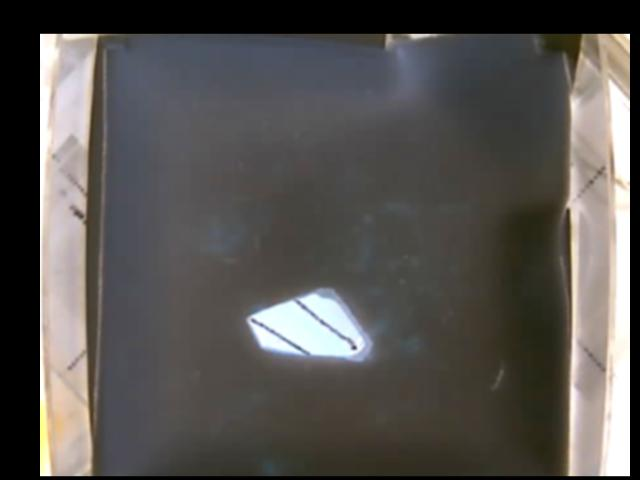China: (245, 285, 373, 362)
